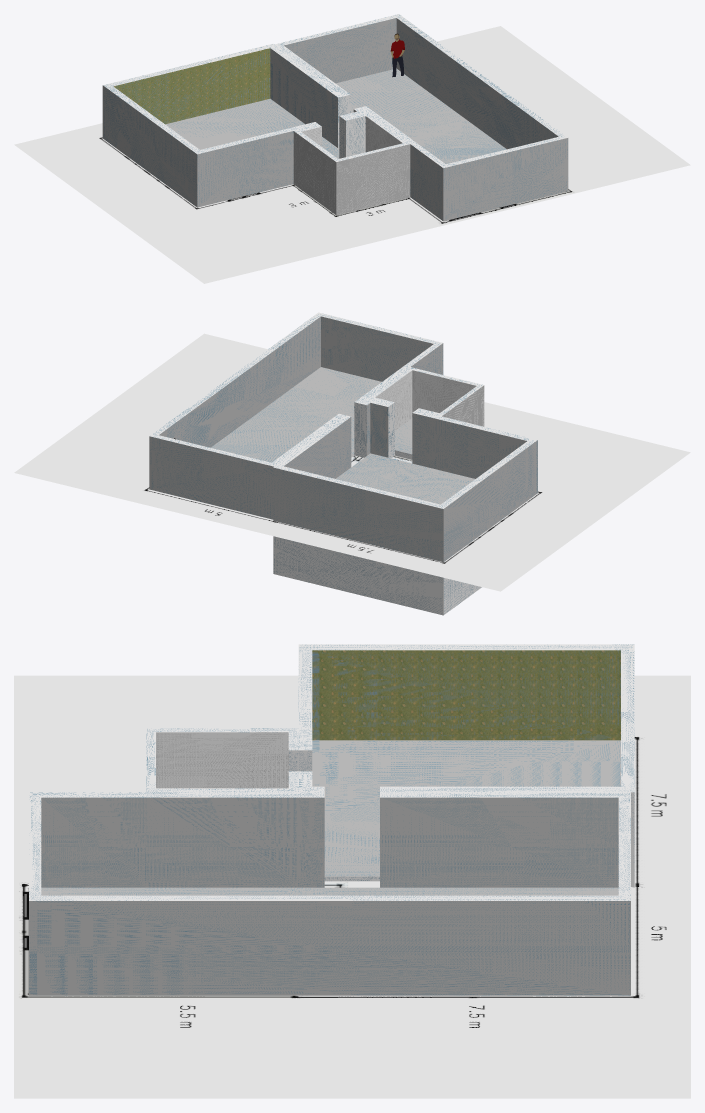
3 renders of one model, top to bottom at view 1: azimuth 30°, elevation 25°; view 2: azimuth 150°, elevation 25°; view 3: azimuth 270°, elevation 25°, orthographic. The views are drawn at different scales.
Visible parts, largest first — view 1: SketchUp (×9), image_0; view 2: SketchUp (×11), image_0; view 3: SketchUp (×8), image_0.
Part boxes in pixels (box(x1,y1,x2,y2)): SketchUp (×9): box(102, 14, 568, 221); image_0: box(14, 26, 690, 283); SketchUp (×11): box(149, 312, 537, 615); image_0: box(14, 333, 690, 591); SketchUp (×8): box(29, 644, 634, 995); image_0: box(14, 675, 690, 1098).
Bounding box in the file's own units: 754 × 510 × 157.
